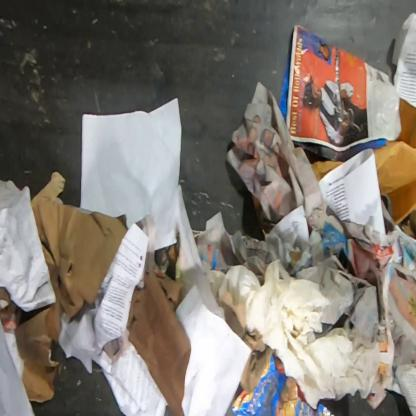cardboard: (14, 172, 128, 404), (126, 269, 192, 415)
soft_plastic: (229, 354, 337, 415)
